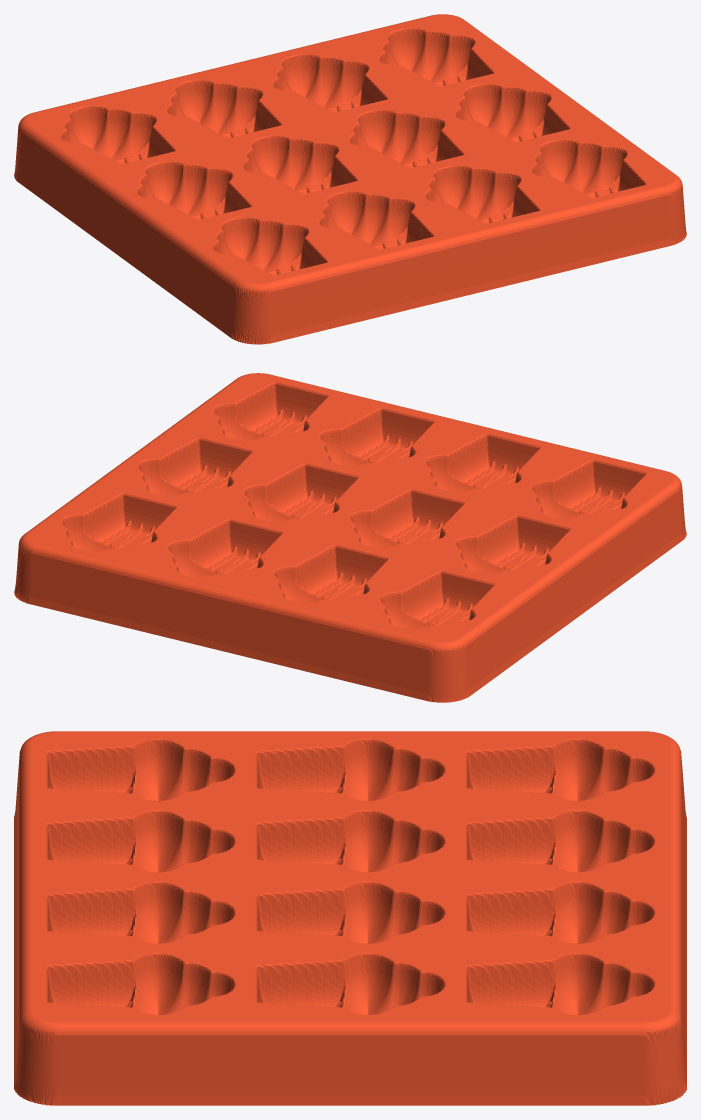
File: mold.glb
3 renders of one model, top to bottom at view 1: azimuth 30°, elevation 25°; view 2: azimuth 150°, elevation 25°; view 3: azimuth 270°, elevation 25°, orthographic. The views are drawn at different scales.
Visible parts, largest first — view 1: geometry_0; view 2: geometry_0; view 3: geometry_0.
Part boxes in pixels (x1=…): geometry_0: x1=14, y1=14, x2=686, y2=344; geometry_0: x1=14, y1=373, x2=686, y2=702; geometry_0: x1=14, y1=731, x2=686, y2=1105.
Size of the model in its own units: 0.1485 by 0.0175 by 0.1389.
